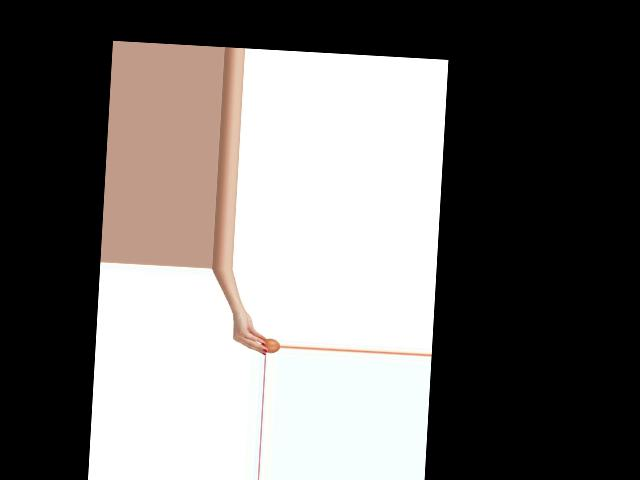egg: (261, 338, 279, 353)
